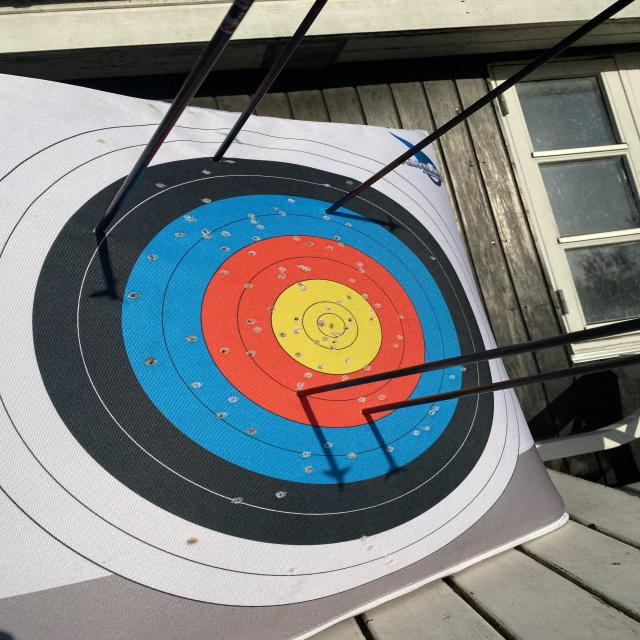Arrow_Black: (199, 142, 234, 178), (76, 220, 127, 243), (324, 196, 351, 226)
Arrow_Red: (354, 398, 388, 426), (288, 380, 315, 407)
